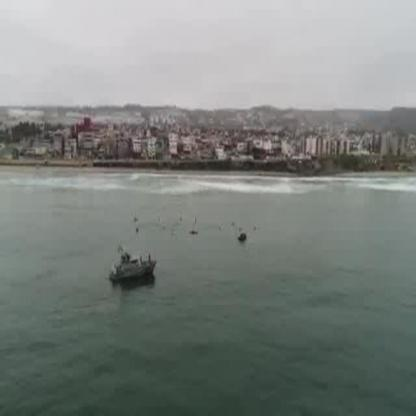Boat: (108, 246, 155, 292)
